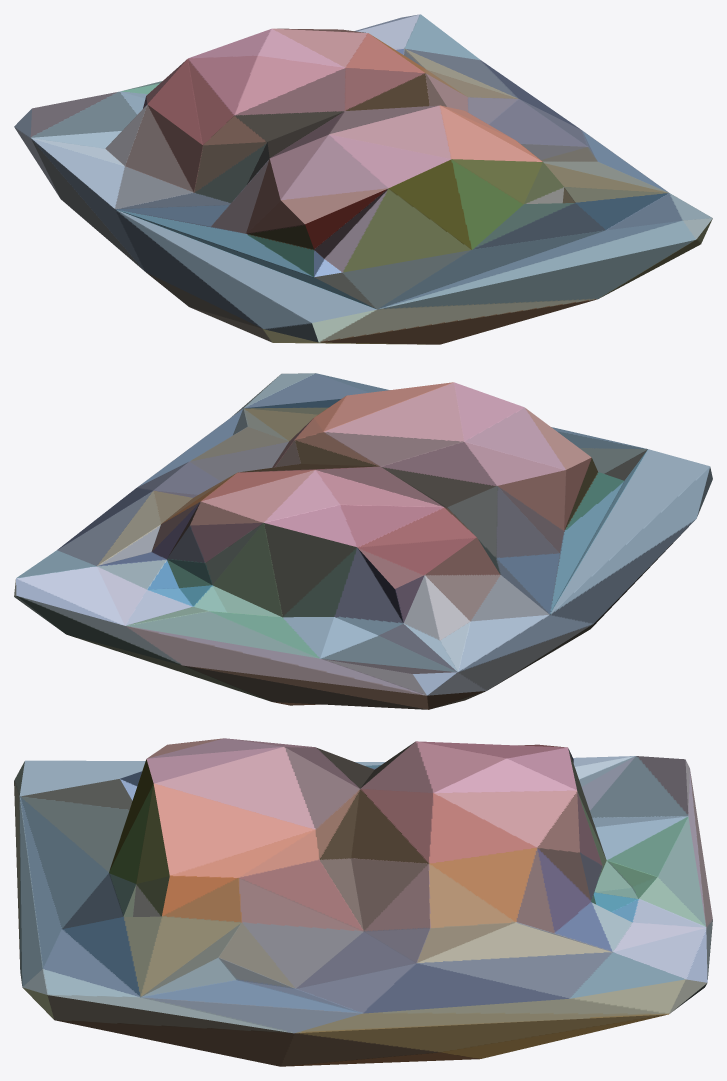
File: sushi.fbx
The picture shows the model from 3 angles, top to bottom: view 1: azimuth 30°, elevation 25°; view 2: azimuth 150°, elevation 25°; view 3: azimuth 270°, elevation 25°; orthographic projection. The views are drawn at different scales.
Visible parts, largest first — view 1: Mesh_0; view 2: Mesh_0; view 3: Mesh_0.
Part boxes in pixels (x1,y1,x2,y2): Mesh_0: (14,14,712,344); Mesh_0: (14,373,712,709); Mesh_0: (14,738,712,1066).
Size of the model in its own units: 102 by 37.64 by 119.
Materials: 1 (1 with a texture image).
